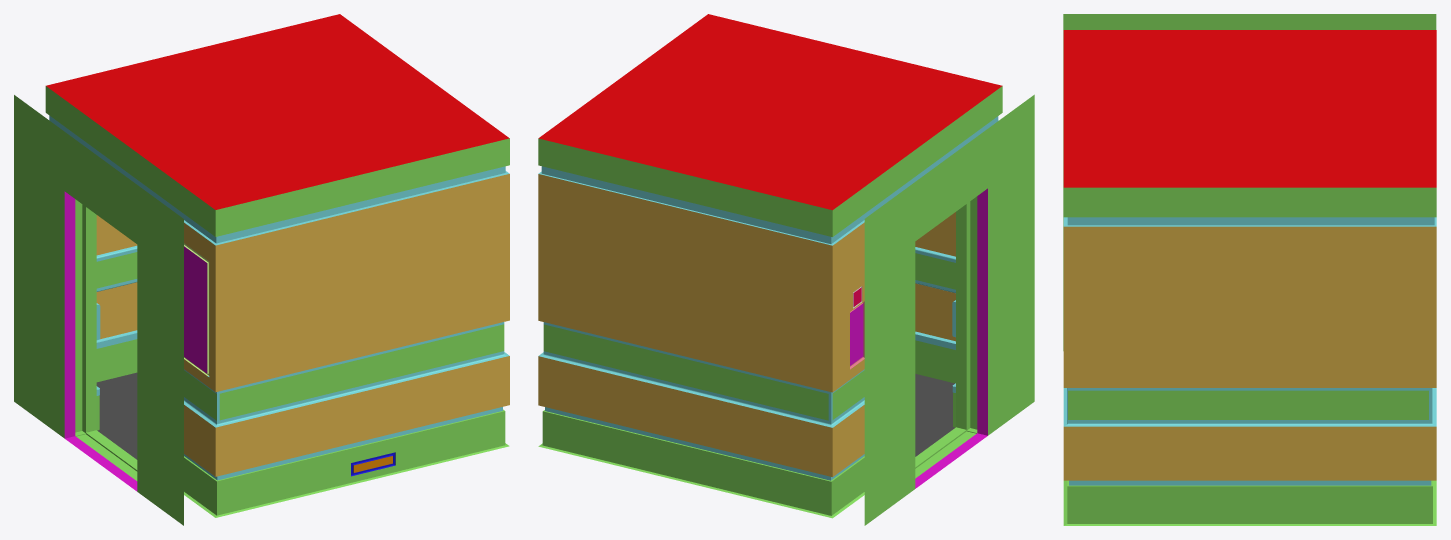
File: Elevator_V7.fbx
The picture shows the model from 3 angles, left to right: view 1: azimuth 30°, elevation 25°; view 2: azimuth 150°, elevation 25°; view 3: azimuth 270°, elevation 25°; orthographic projection. The views are drawn at different scales.
Parts seen in each view (by area): view 1: Elevator; view 2: Elevator; view 3: Elevator.
Part boxes in pixels (<box>): Elevator: <box>14,14,509,525</box>; Elevator: <box>538,14,1034,525</box>; Elevator: <box>1063,14,1436,525</box>.
Size of the model in its own units: 934 by 845 by 844.
